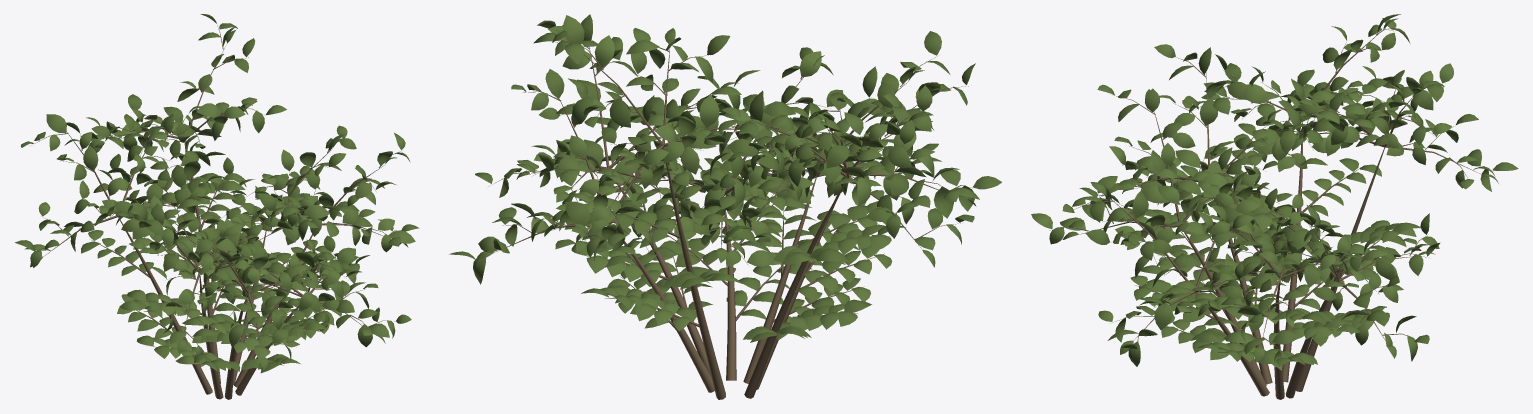
The model's file is corealm_shrub_1_optimized.glb.
The picture shows the model from 3 angles, left to right: view 1: azimuth 30°, elevation 25°; view 2: azimuth 150°, elevation 25°; view 3: azimuth 270°, elevation 25°; orthographic projection. The views are drawn at different scales.
Visible parts, largest first — view 1: corealm_shrub_1; view 2: corealm_shrub_1; view 3: corealm_shrub_1.
Boxes of the visible parts, box(x1,y1,x2,y2) form: corealm_shrub_1: box(15, 14, 419, 399); corealm_shrub_1: box(449, 14, 1001, 399); corealm_shrub_1: box(1031, 14, 1518, 399).
Bounding box in the file's own units: 1.58 × 1.2 × 1.49.
